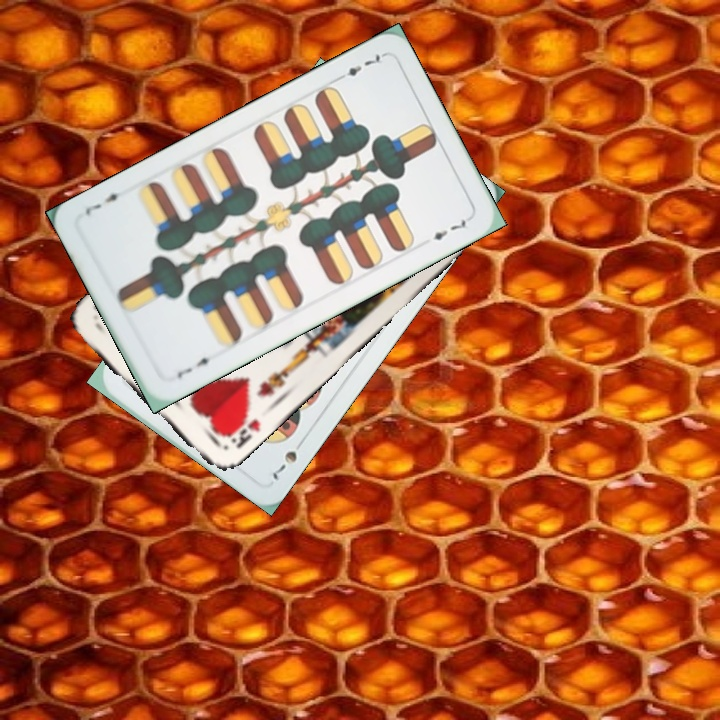E7: (332, 49, 386, 84), (172, 353, 219, 381)
HK: (219, 404, 263, 451)
S7: (268, 434, 308, 484)
